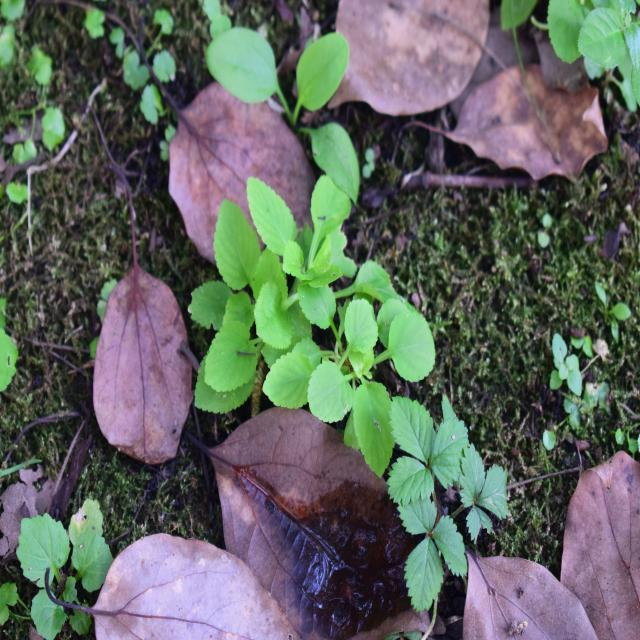Viola: (212, 194, 416, 449)
